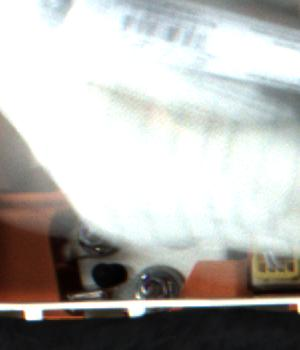screw_s: (135, 262, 182, 300)
